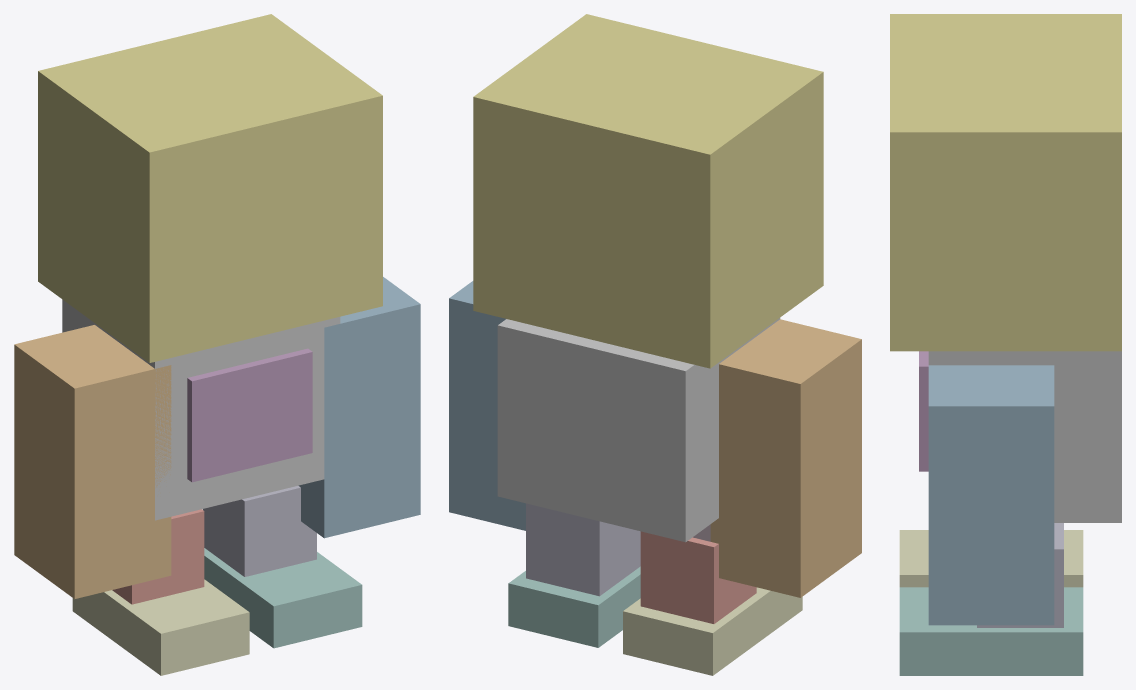
The model's file is robot_bbox.glb.
3 views of the same model, side by side, from view 1: azimuth 30°, elevation 25°; view 2: azimuth 150°, elevation 25°; view 3: azimuth 270°, elevation 25° (orthographic). The views are drawn at different scales.
Parts seen in each view (by area): view 1: world; view 2: world; view 3: world.
Part boxes in pixels (x1,y1,x2,y2): world: (14,14,420,675); world: (449,14,861,675); world: (890,14,1121,675).
Size of the model in its own units: 0.6825 by 1 by 0.381.
